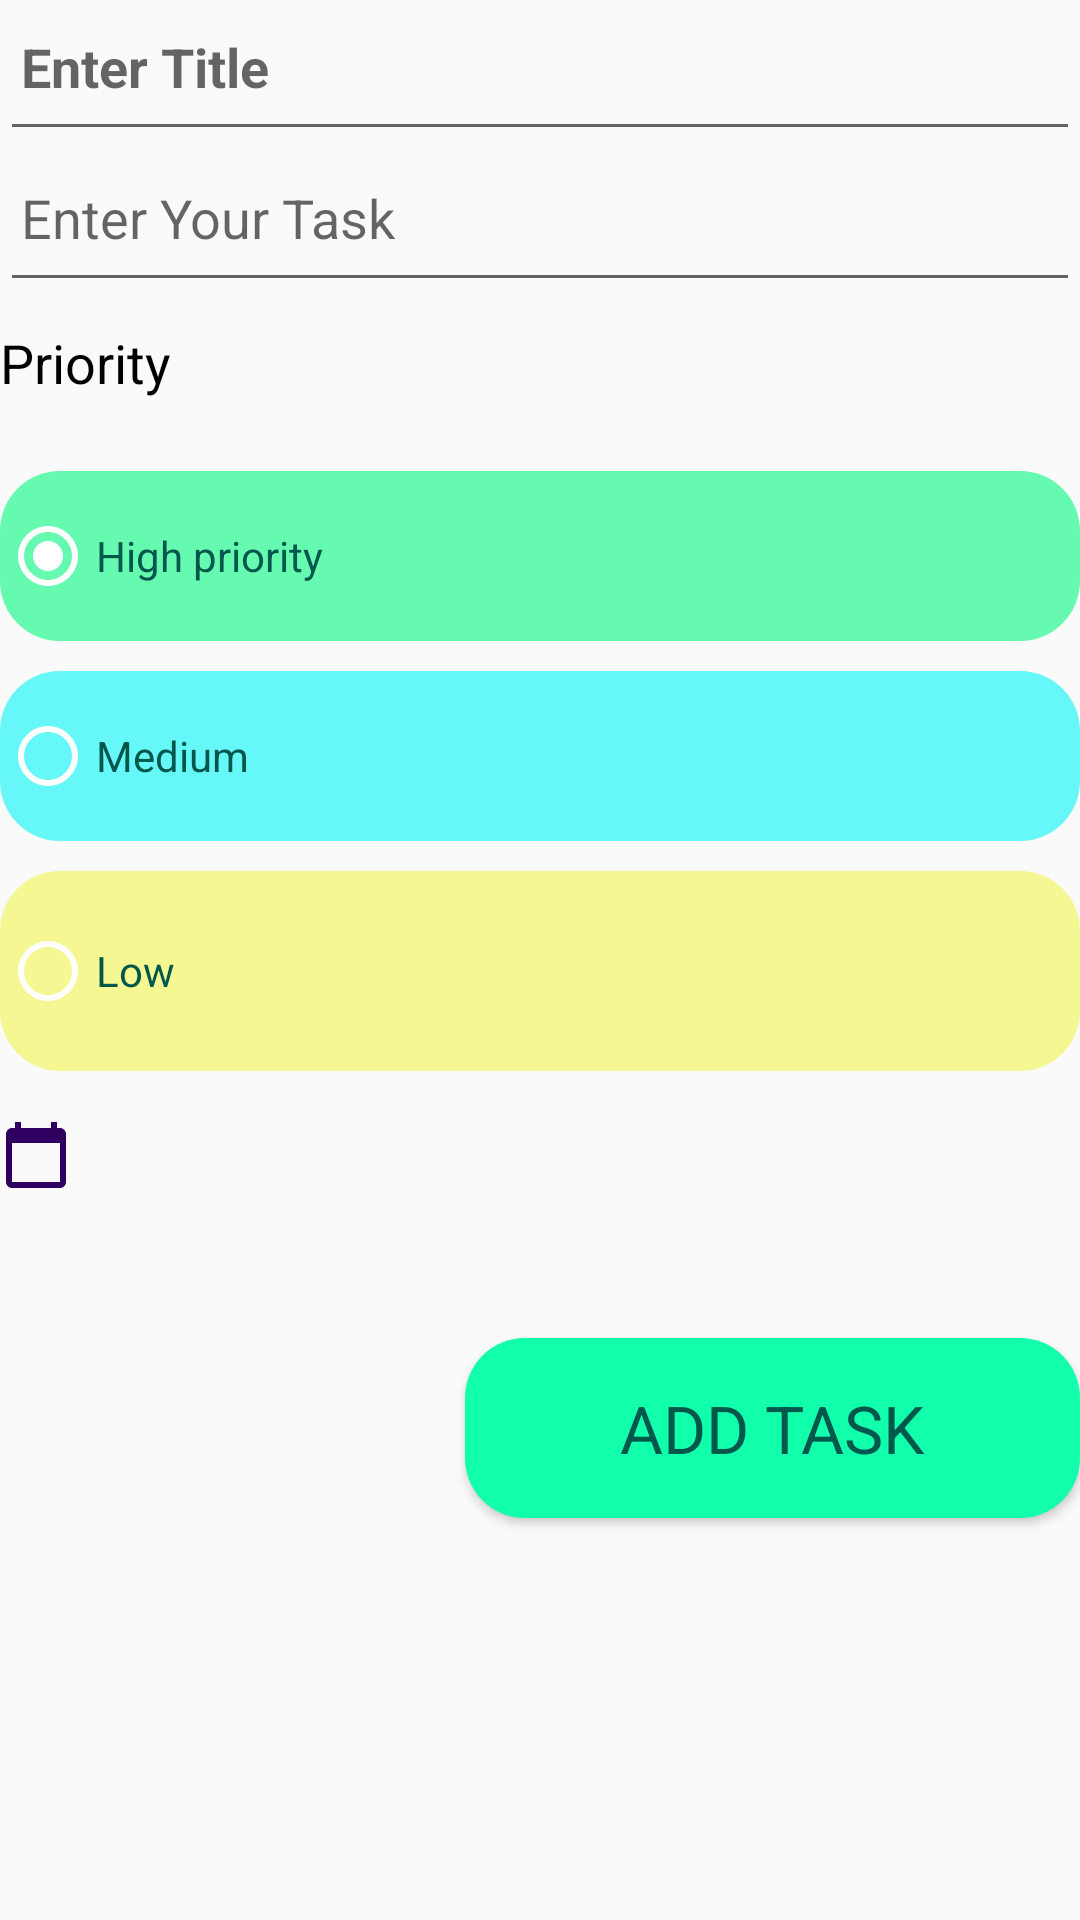

Screen size 1080×1920. Icon name, then its center in pixels as (x=x, y=y):
calendar: (x=36, y=1155)
